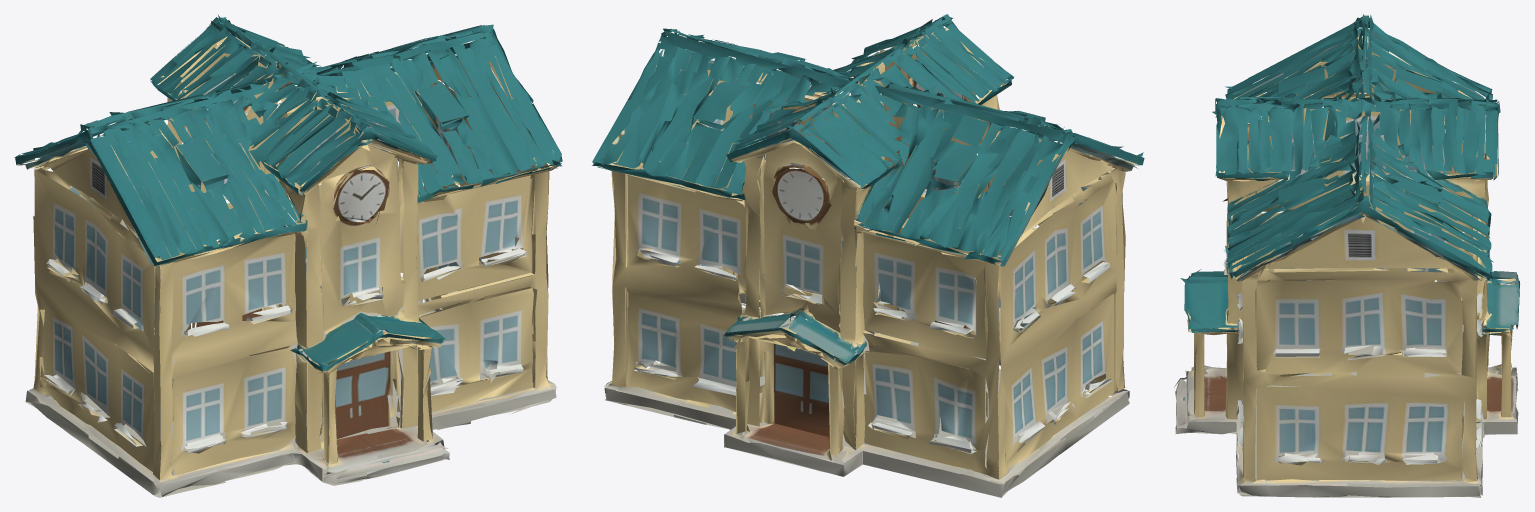
The model's file is schoolBlock.glb.
3 views of the same model, side by side, from view 1: azimuth 30°, elevation 25°; view 2: azimuth 150°, elevation 25°; view 3: azimuth 270°, elevation 25° (orthographic). The views are drawn at different scales.
Visible parts, largest first — view 1: schoolBlock; view 2: schoolBlock; view 3: schoolBlock.
Part boxes in pixels (x1,y1,x2,y2): schoolBlock: (14,15,562,497); schoolBlock: (592,14,1144,497); schoolBlock: (1174,14,1520,497).
Bounding box in the file's own units: 1.16 × 0.913 × 0.9146.
1 material, 1 textured.
